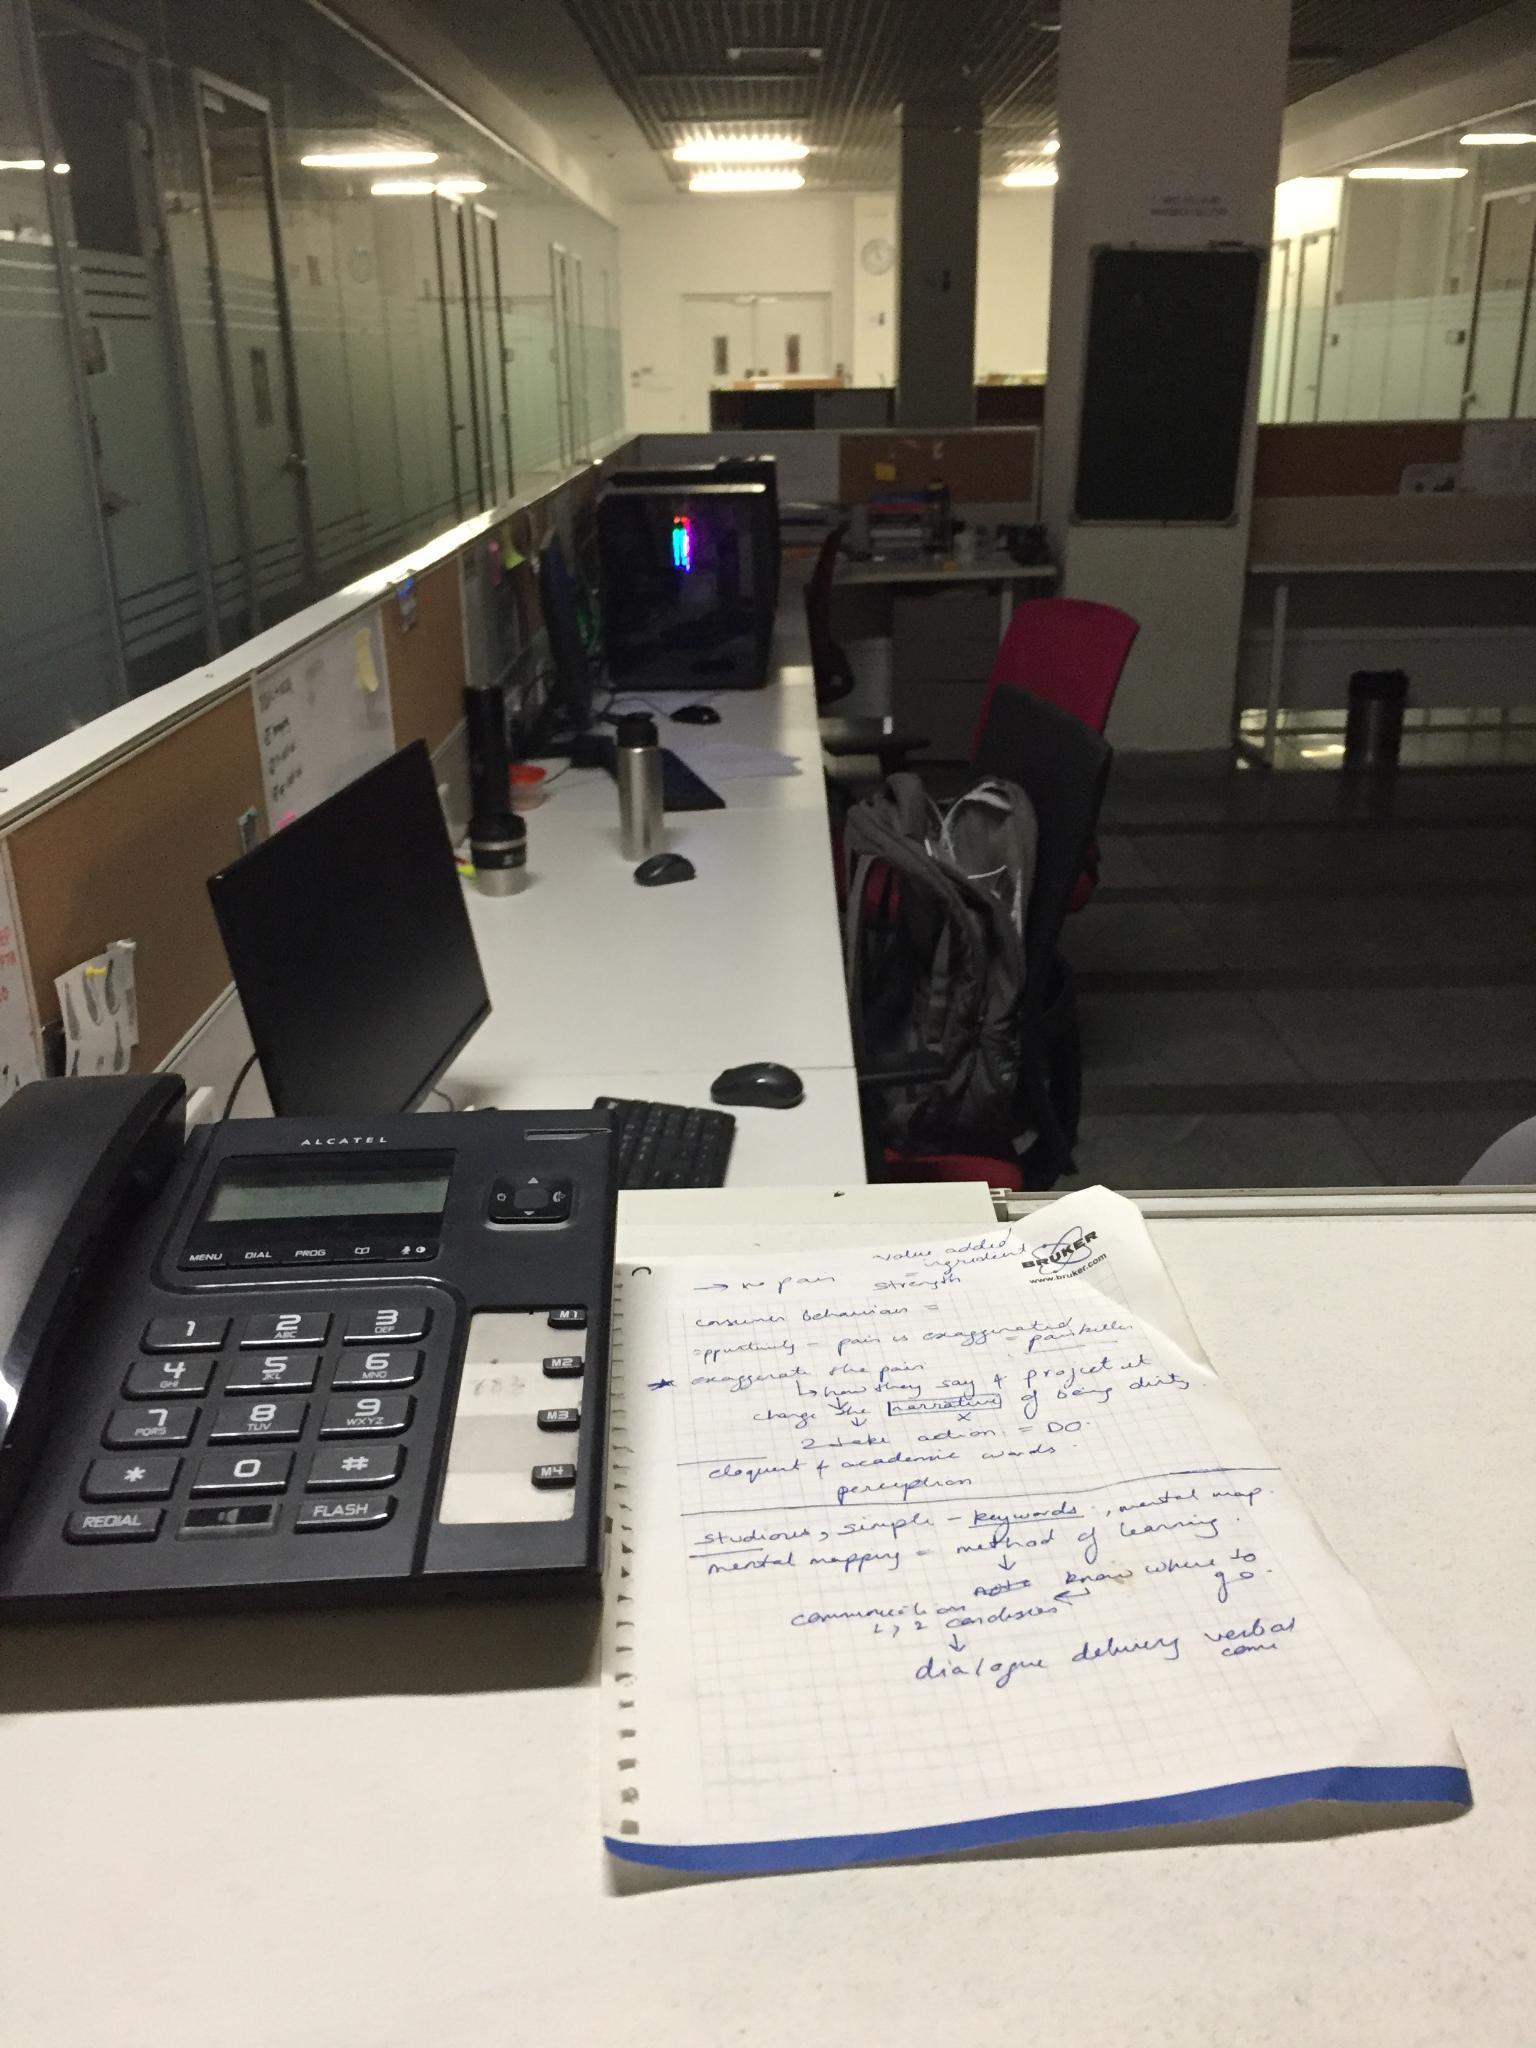chair: (802, 694, 1130, 1222), (768, 590, 1174, 940)
